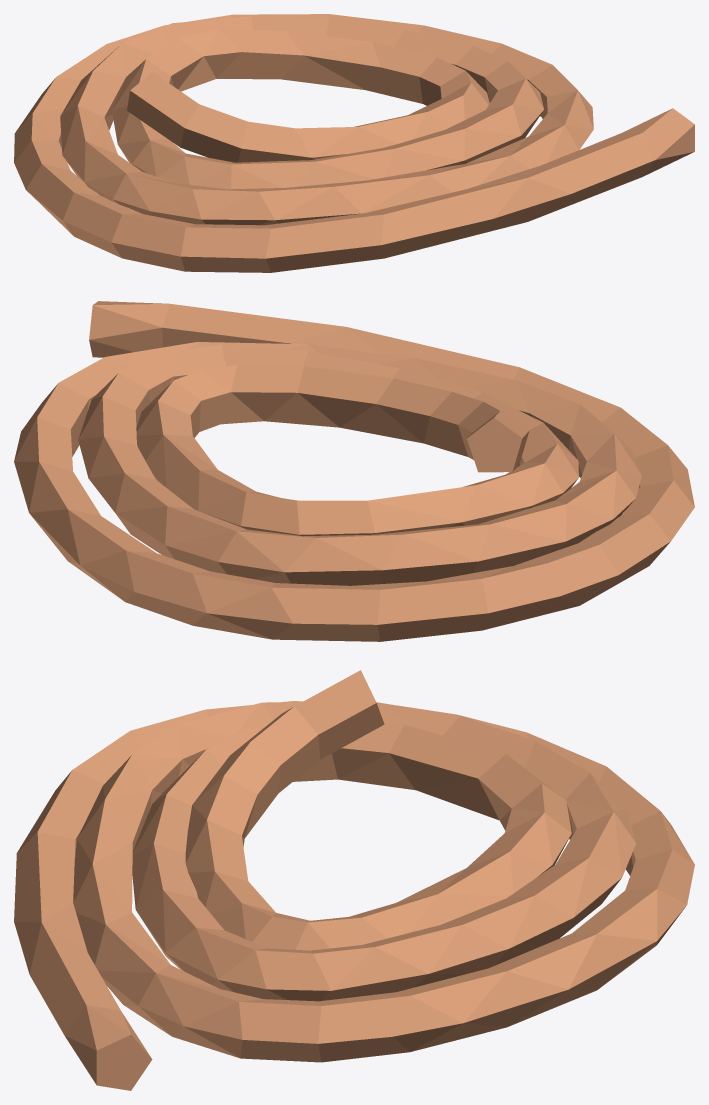
File: pp-Rope.glb
The picture shows the model from 3 angles, top to bottom: view 1: azimuth 30°, elevation 25°; view 2: azimuth 150°, elevation 25°; view 3: azimuth 270°, elevation 25°; orthographic projection. The views are drawn at different scales.
Visible parts, largest first — view 1: Rope_NurbsPath; view 2: Rope_NurbsPath; view 3: Rope_NurbsPath.
Part boxes in pixels (x1,y1,x2,y2): Rope_NurbsPath: [14, 14, 694, 272]; Rope_NurbsPath: [14, 301, 694, 641]; Rope_NurbsPath: [14, 670, 694, 1090].
Bounding box in the file's own units: 0.906 × 0.1857 × 0.7488.
